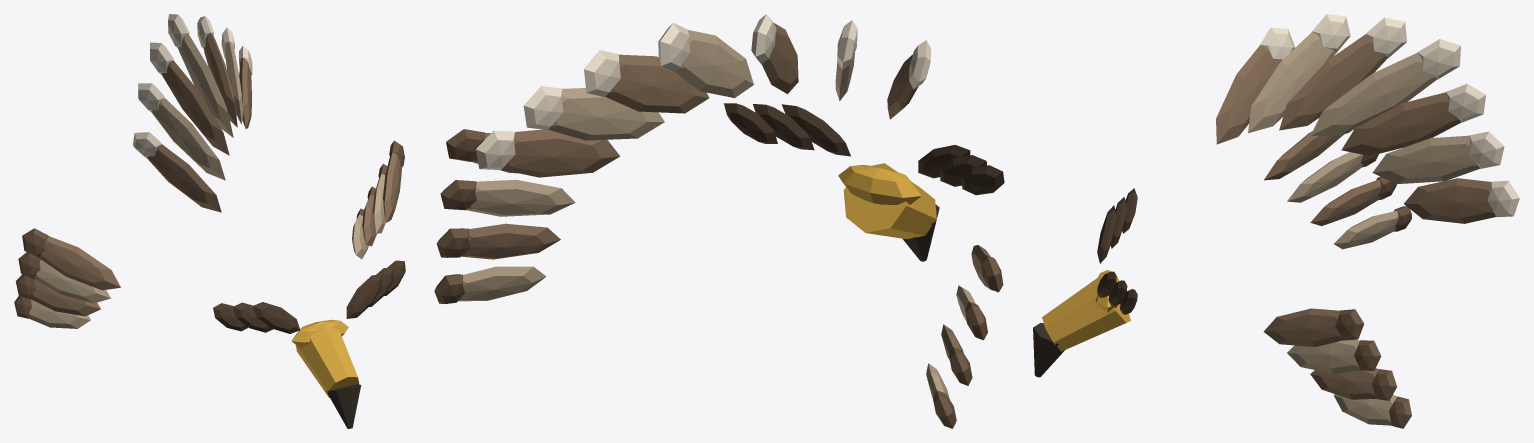
File: harpy_head.glb
3 views of the same model, side by side, from view 1: azimuth 30°, elevation 25°; view 2: azimuth 150°, elevation 25°; view 3: azimuth 270°, elevation 25° (orthographic). The views are drawn at different scales.
Visible parts, largest first — view 1: harpy_head; view 2: harpy_head; view 3: harpy_head.
Part boxes in pixels (x1,y1,x2,y2): harpy_head: [14, 14, 405, 428]; harpy_head: [434, 14, 1004, 428]; harpy_head: [1033, 14, 1519, 428].
Size of the model in its own units: 1.31 by 0.9582 by 1.25.
